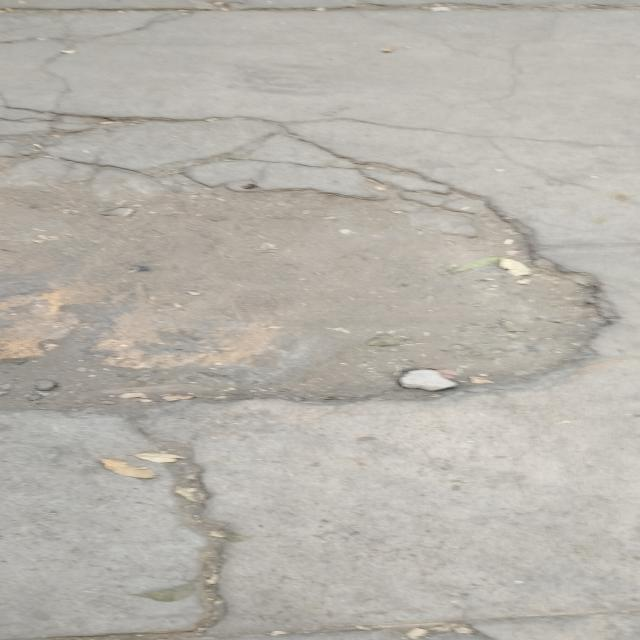hole: (0, 180, 620, 419)
